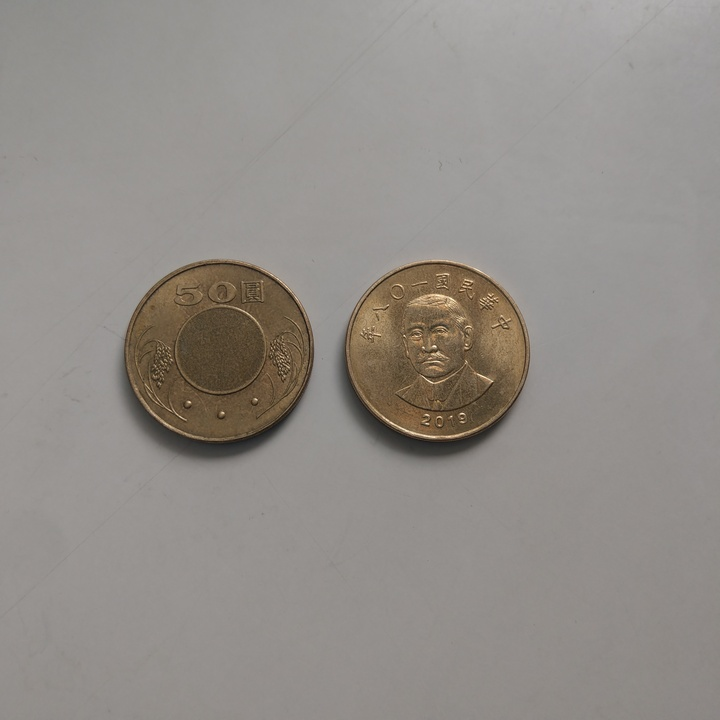50 dollar: (119, 260, 318, 448), (341, 258, 534, 445)
